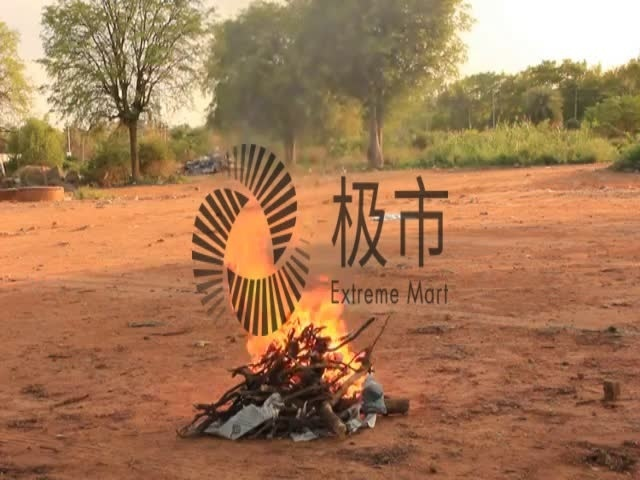fire: (224, 241, 372, 397)
